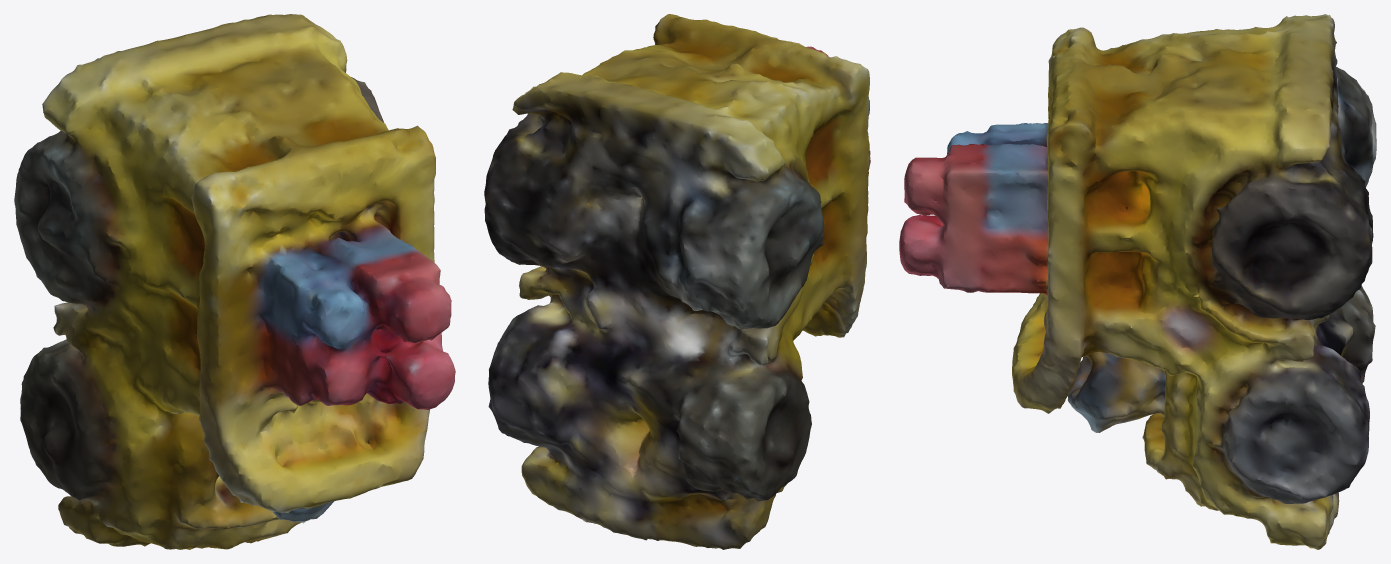
File: school_bus2.glb
The picture shows the model from 3 angles, left to right: view 1: azimuth 30°, elevation 25°; view 2: azimuth 150°, elevation 25°; view 3: azimuth 270°, elevation 25°; orthographic projection. The views are drawn at different scales.
Size of the model in its own units: 0.6933 by 0.995 by 0.9501.
